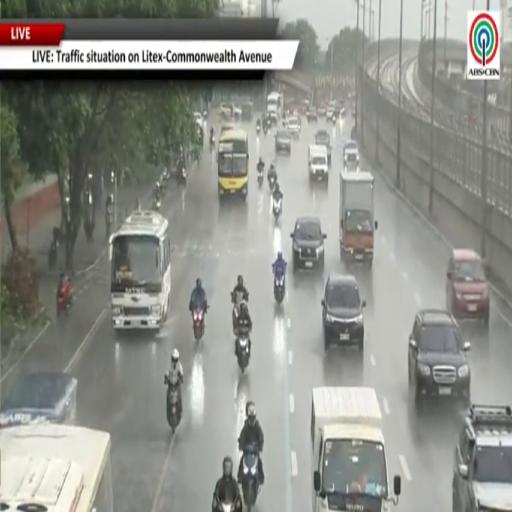bus: (0, 425, 113, 511), (110, 211, 171, 333), (218, 130, 248, 198), (267, 92, 284, 122)
car: (453, 405, 511, 511), (408, 310, 470, 403), (0, 372, 77, 428), (446, 249, 489, 326), (322, 275, 365, 350), (291, 216, 326, 271), (315, 130, 332, 166), (344, 140, 359, 169), (276, 130, 291, 154), (287, 116, 300, 138), (219, 123, 235, 138), (219, 103, 232, 120), (194, 111, 203, 129), (327, 102, 337, 118), (306, 107, 317, 121), (233, 105, 242, 121), (317, 104, 326, 117), (352, 106, 357, 118)
motorcycle: (242, 444, 259, 510), (165, 376, 181, 433), (231, 293, 248, 329), (237, 329, 250, 373), (57, 287, 73, 316), (215, 496, 242, 511), (192, 309, 204, 341), (48, 238, 58, 271), (274, 274, 285, 303), (106, 206, 112, 238), (273, 198, 282, 219), (177, 166, 186, 185), (268, 176, 276, 191), (153, 198, 161, 211), (181, 167, 186, 184), (258, 169, 263, 186), (210, 136, 214, 152), (263, 123, 267, 135), (256, 124, 260, 134)
truck: (312, 387, 401, 511), (339, 170, 377, 266), (309, 144, 328, 183)
